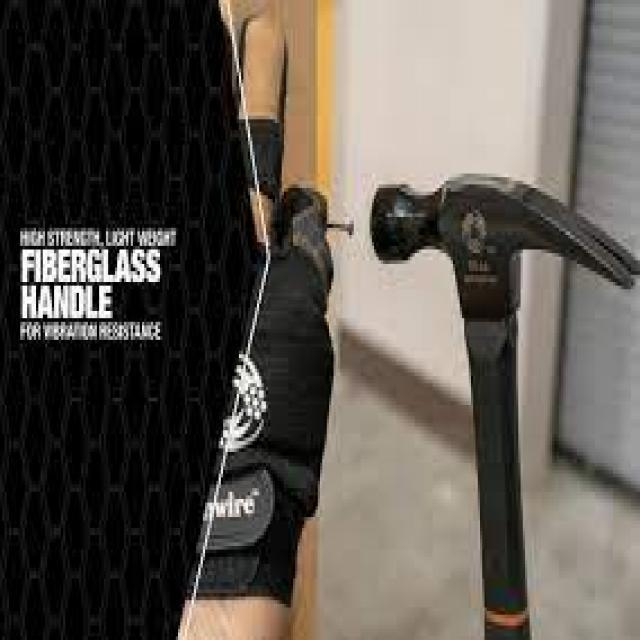hammer: (365, 166, 640, 640)
